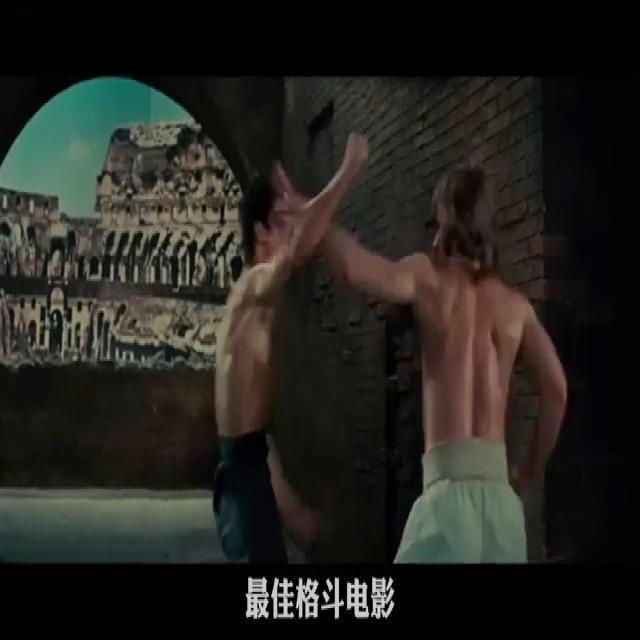fight: (215, 128, 572, 562)
